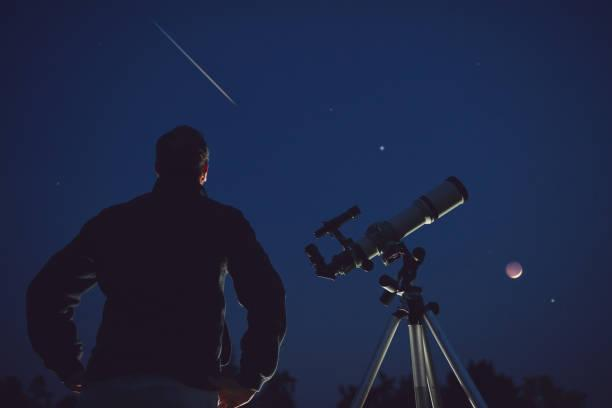meteor: (224, 93, 244, 113)
